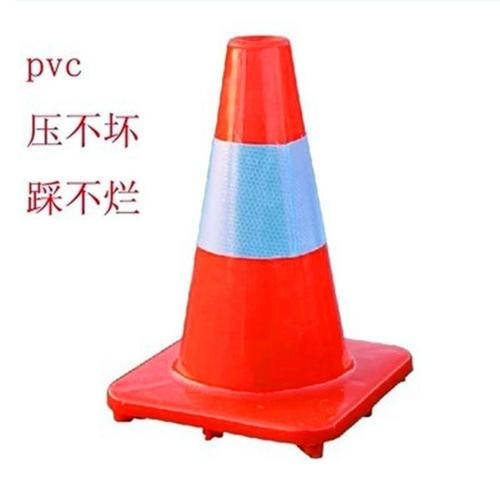cone_barrel: (158, 45, 367, 419)
